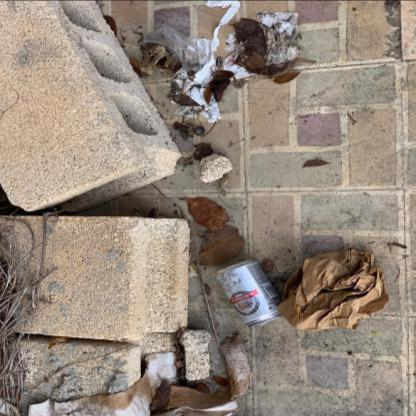Can: (214, 259, 283, 327)
Cup: (142, 23, 209, 73)
Other litter: (277, 248, 390, 332)
Paper: (171, 0, 242, 122), (224, 11, 302, 81)
Pop tab: (258, 322, 270, 327)
